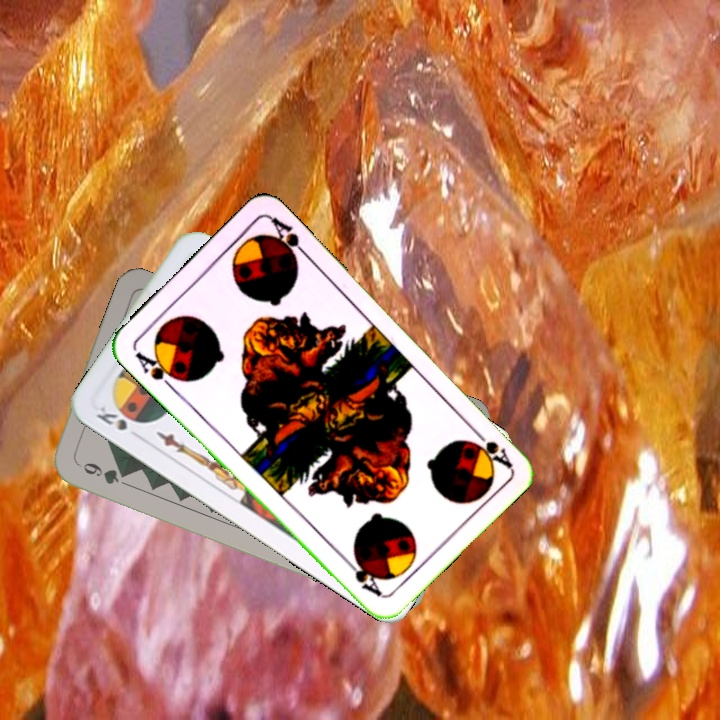G9: (72, 458, 132, 488)
SA: (130, 347, 184, 393), (466, 423, 514, 470)
SK: (92, 402, 144, 442)
